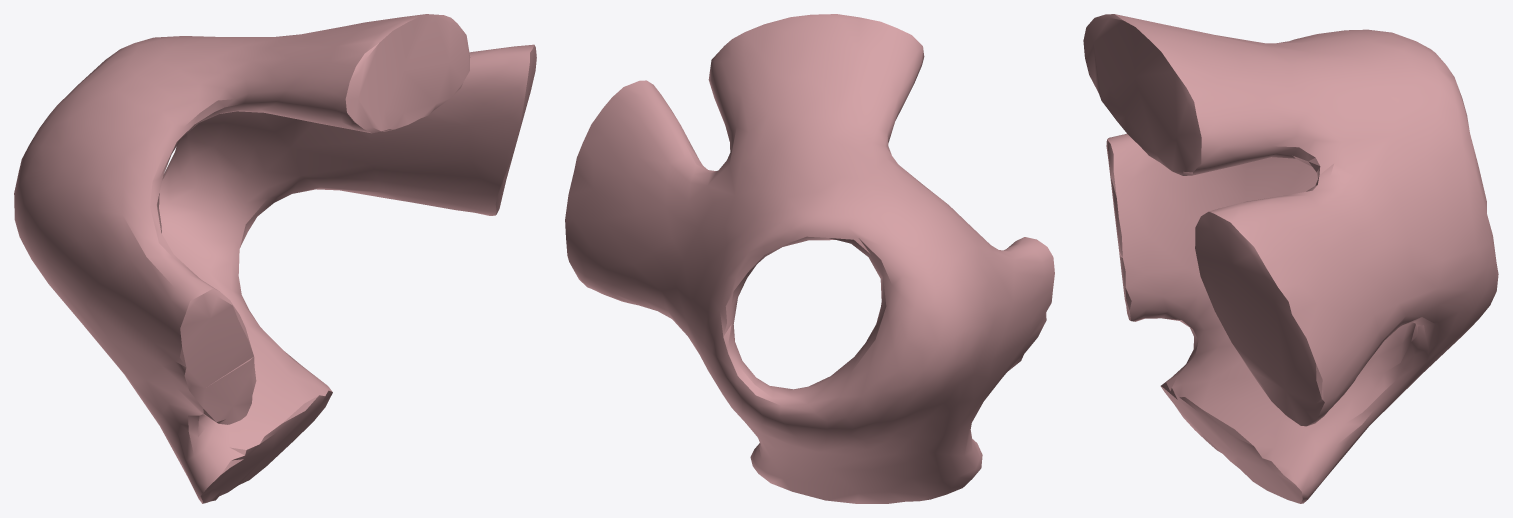
The model's file is fma49073_mm2236.glb.
3 renders of one model, left to right at view 1: azimuth 30°, elevation 25°; view 2: azimuth 150°, elevation 25°; view 3: azimuth 270°, elevation 25°, orthographic. The views are drawn at different scales.
Visible parts, largest first — view 1: FMA49073_MM2236; view 2: FMA49073_MM2236; view 3: FMA49073_MM2236.
Boxes of the visible parts, box(x1,y1,x2,y2) form: FMA49073_MM2236: box(14, 14, 536, 503); FMA49073_MM2236: box(565, 14, 1054, 503); FMA49073_MM2236: box(1083, 14, 1498, 503).
Bounding box in the file's own units: 0.0108 × 0.0103 × 0.00777.
